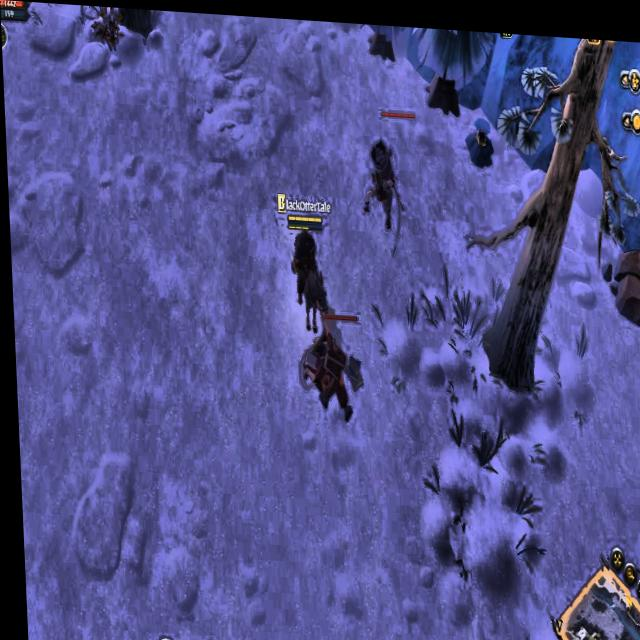copperore: (462, 115, 497, 164)
limestone: (607, 233, 640, 321)
